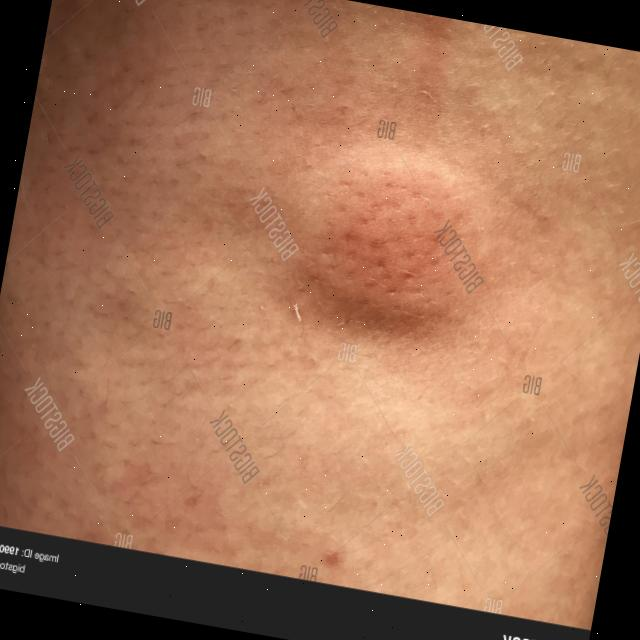sinek: (221, 98, 558, 400)
